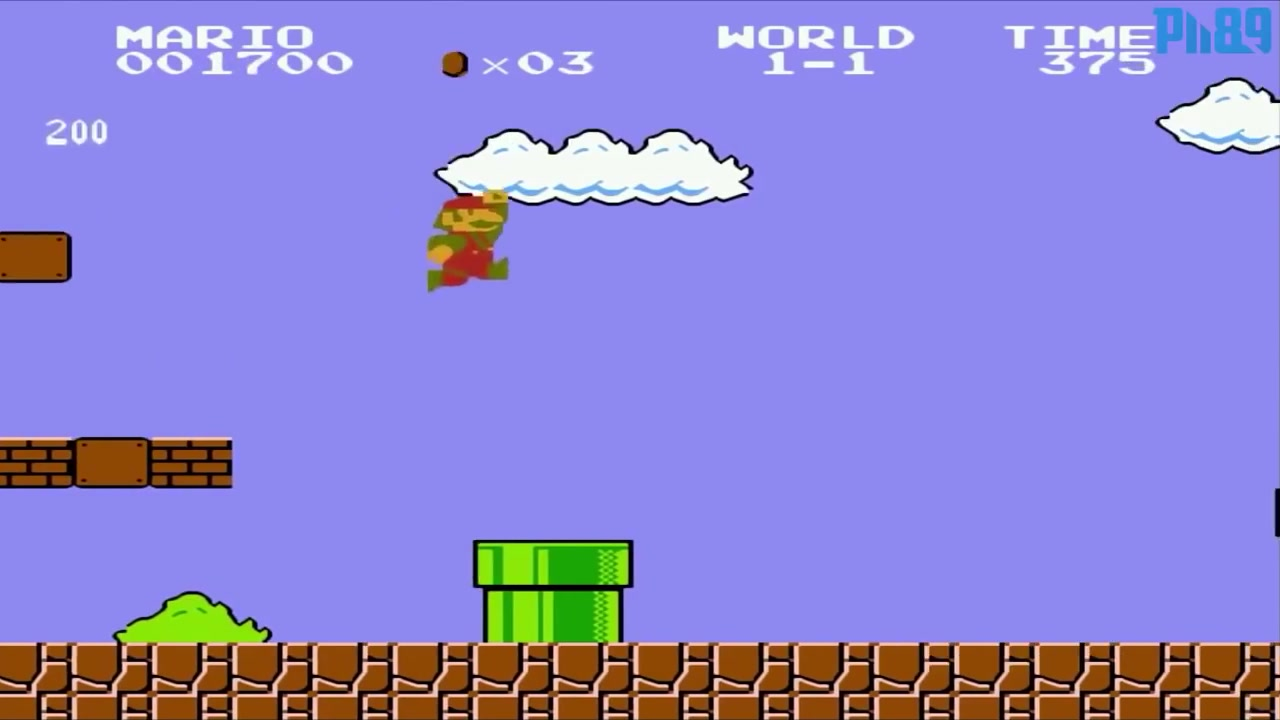mario: (423, 185, 513, 296)
